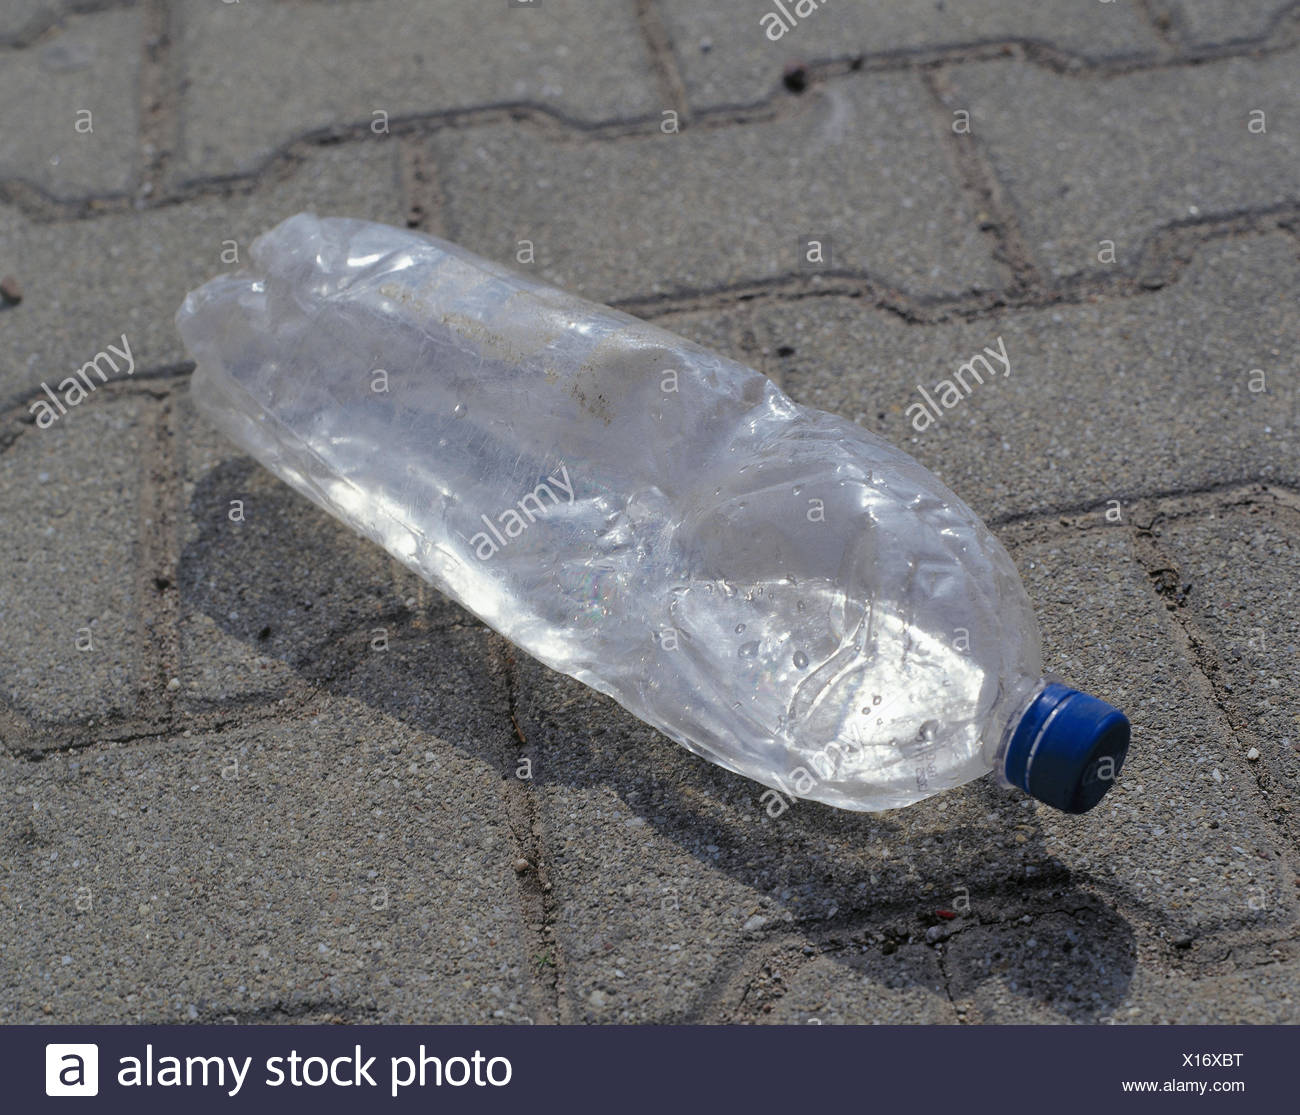plastic_bottle: (118, 122, 1212, 943)
